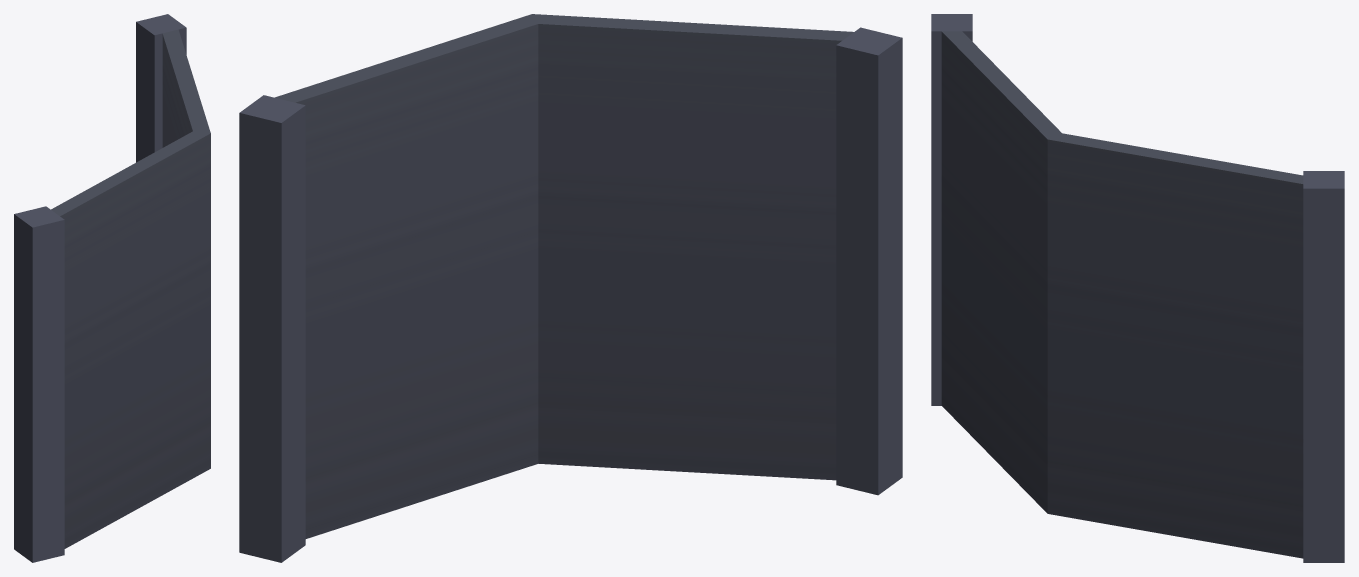
Rendered from wall-corner-edge.glb.
3 renders of one model, left to right at view 1: azimuth 30°, elevation 25°; view 2: azimuth 150°, elevation 25°; view 3: azimuth 270°, elevation 25°, orthographic. The views are drawn at different scales.
Visible parts, largest first — view 1: wall-corner-edge; view 2: wall-corner-edge; view 3: wall-corner-edge.
Boxes of the visible parts, x1=… form: wall-corner-edge: x1=14, y1=14, x2=210, y2=562; wall-corner-edge: x1=239, y1=14, x2=902, y2=562; wall-corner-edge: x1=931, y1=14, x2=1344, y2=562.
Size of the model in its own units: 1 by 1 by 1.
Materials: 1 (1 with a texture image).
